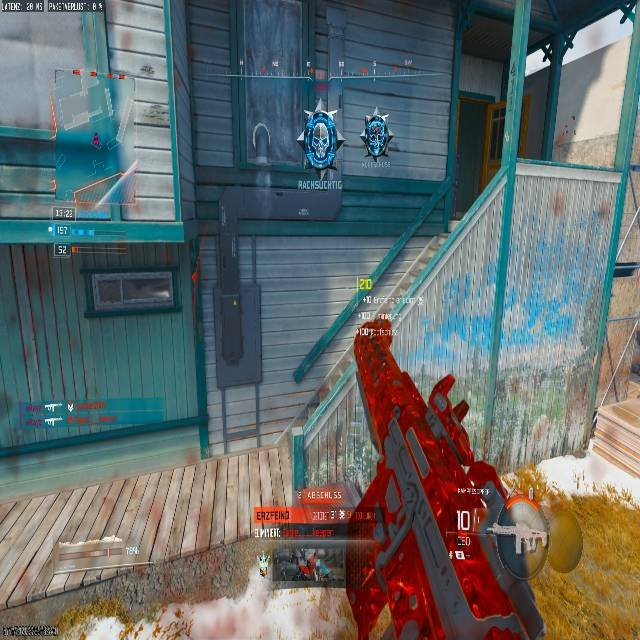player: (300, 106, 340, 187), (359, 114, 392, 159)
